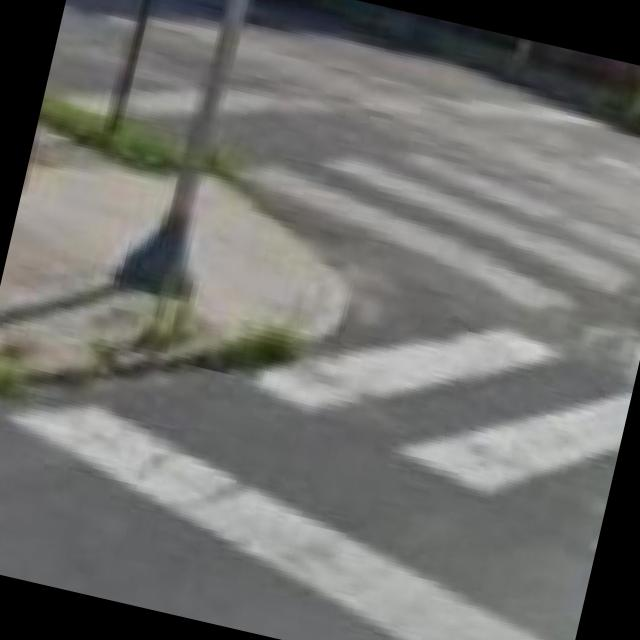zebra: (246, 113, 640, 315)
